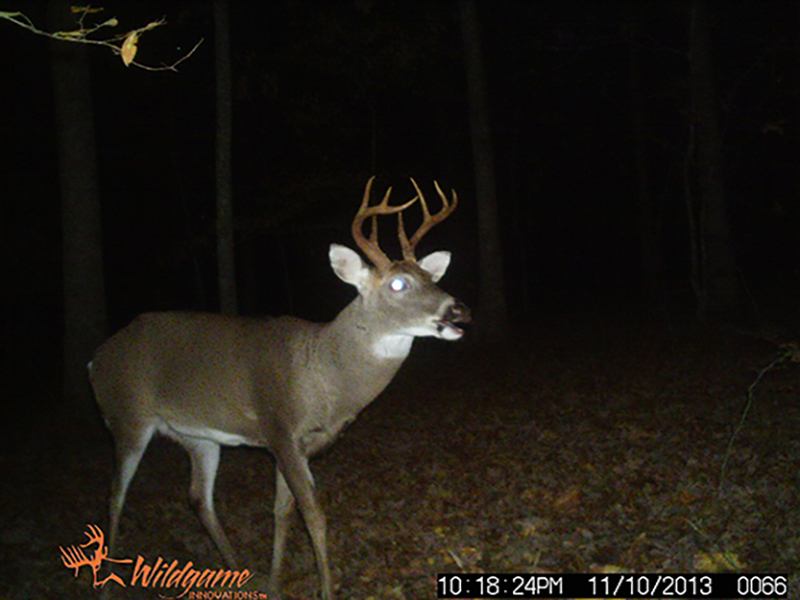cervo: (87, 179, 472, 550)
